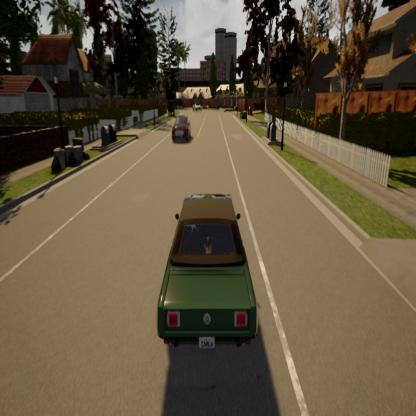Cars: (147, 188, 263, 356), (168, 112, 193, 145), (191, 102, 204, 114)
